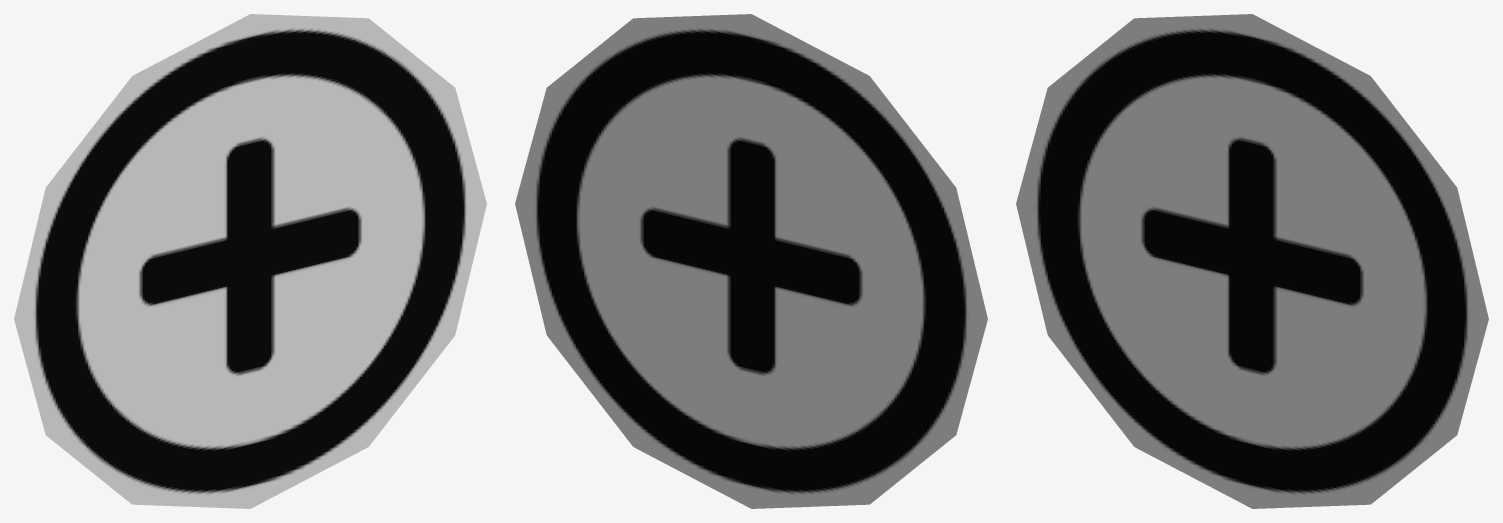
The model's file is infoicon.glb.
3 renders of one model, left to right at view 1: azimuth 30°, elevation 25°; view 2: azimuth 150°, elevation 25°; view 3: azimuth 330°, elevation 25°, orthographic.
Visible parts, largest first — view 1: extend_icon.001; view 2: extend_icon.001; view 3: extend_icon.001.
Boxes of the visible parts, x1,y1,x2,y2 form: extend_icon.001: (14, 14, 486, 508); extend_icon.001: (515, 14, 987, 508); extend_icon.001: (1016, 14, 1488, 508).
Size of the model in its own units: 7.37 by 7.37 by 1.24e-06.
1 material, 1 textured.
